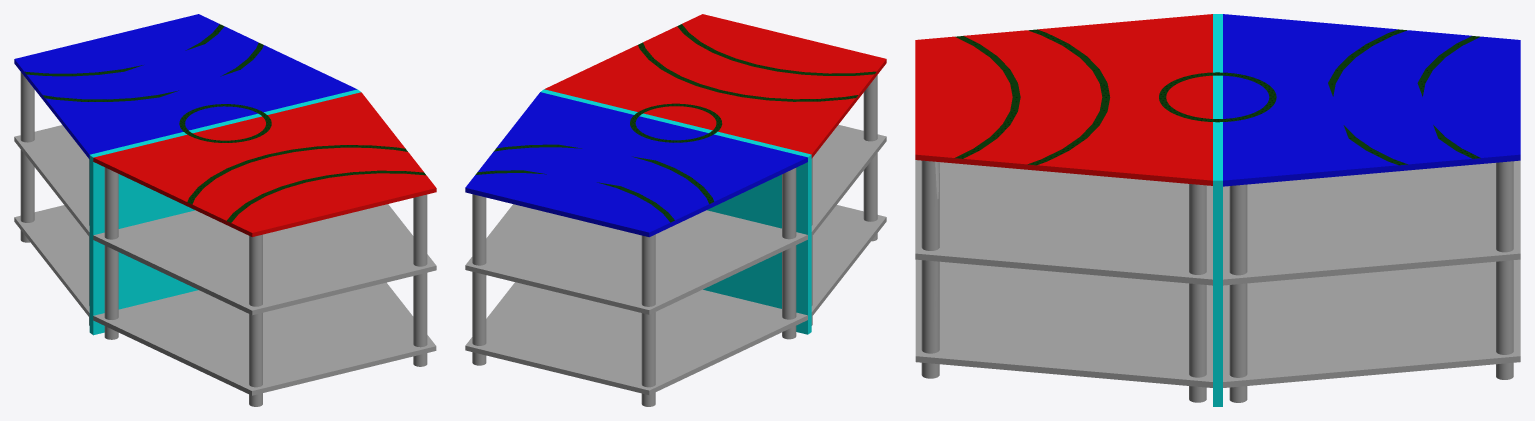
Rendered from Arena.fbx.
3 views of the same model, side by side, from view 1: azimuth 30°, elevation 25°; view 2: azimuth 150°, elevation 25°; view 3: azimuth 270°, elevation 25° (orthographic). The views are drawn at different scales.
Visible parts, largest first — view 1: RedSide6, BlueSide6, RedSide2, RedSide1, Wall1, BlueSide2, BlueSide1, pCylinder1, pCylinder3, pCylinder2, pCylinder7; view 2: BlueSide6, RedSide6, BlueSide2, BlueSide1, Wall1, RedSide2, RedSide1, pCylinder7, pCylinder8, pCylinder6, pCylinder2; view 3: BlueSide6, RedSide6, RedSide2, BlueSide2, RedSide1, BlueSide1, Wall1, pCylinder5, pCylinder1, pCylinder8, pCylinder4.
Part boxes in pixels (<box>): RedSide6: <box>93,92,436,236</box>; BlueSide6: <box>14,14,356,159</box>; RedSide2: <box>93,282,436,395</box>; RedSide1: <box>93,204,436,315</box>; Wall1: <box>89,89,360,335</box>; BlueSide2: <box>14,205,89,317</box>; BlueSide1: <box>14,125,89,236</box>; pCylinder1: <box>413,194,427,366</box>; pCylinder3: <box>104,167,118,339</box>; pCylinder2: <box>249,234,262,406</box>; pCylinder7: <box>20,72,34,242</box>; BlueSide6: <box>465,92,807,237</box>; RedSide6: <box>544,14,886,158</box>; BlueSide2: <box>465,282,807,395</box>; BlueSide1: <box>465,204,807,314</box>; Wall1: <box>541,89,811,334</box>; RedSide2: <box>811,205,886,316</box>; RedSide1: <box>811,124,886,236</box>; pCylinder7: <box>641,234,655,406</box>; pCylinder8: <box>472,194,486,365</box>; pCylinder6: <box>782,168,796,339</box>; pCylinder2: <box>863,75,877,241</box>; BlueSide6: <box>1223,14,1520,186</box>; RedSide6: <box>915,14,1212,185</box>; RedSide2: <box>915,259,1212,387</box>; BlueSide2: <box>1223,259,1520,387</box>; RedSide1: <box>915,160,1212,285</box>; BlueSide1: <box>1223,160,1520,285</box>; Wall1: <box>1213,14,1222,406</box>; pCylinder5: <box>1229,184,1247,402</box>; pCylinder1: <box>921,160,939,378</box>; pCylinder8: <box>1496,161,1513,379</box>; pCylinder4: <box>1189,184,1206,402</box>.
Size of the model in its own units: 207 by 131 by 318.
